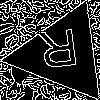R: (37, 28, 82, 78)
